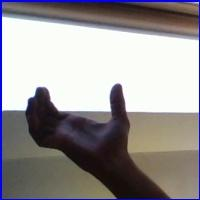space: (16, 74, 152, 172)
